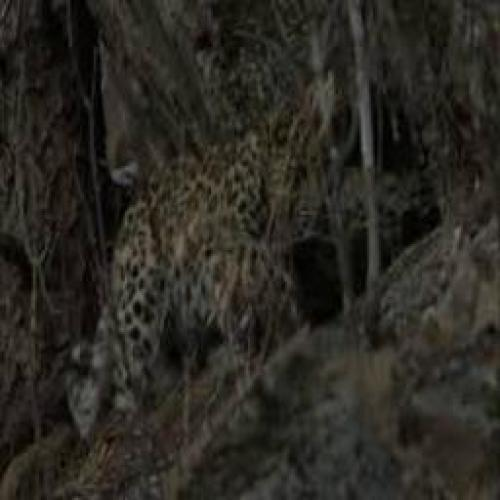amur_leopard-endangered: (61, 101, 344, 432)
